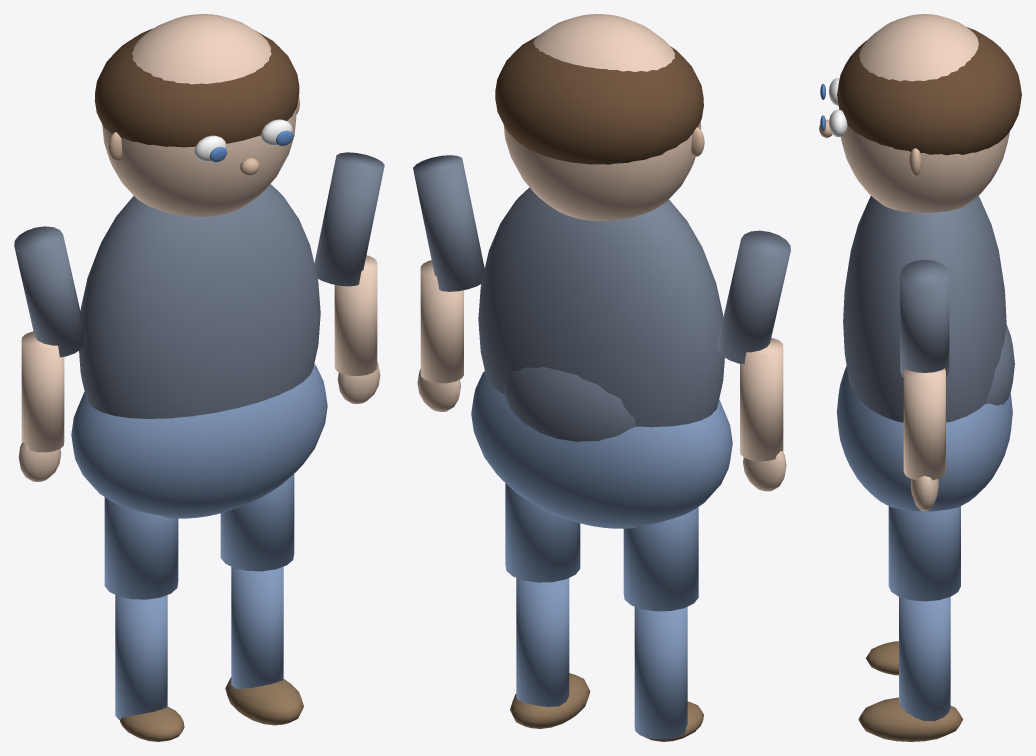
The model's file is noma_character.glb.
3 views of the same model, side by side, from view 1: azimuth 30°, elevation 25°; view 2: azimuth 150°, elevation 25°; view 3: azimuth 270°, elevation 25° (orthographic). The views are drawn at different scales.
Visible parts, largest first — view 1: NomaCharacter; view 2: NomaCharacter; view 3: NomaCharacter.
Boxes of the visible parts, x1,y1,x2,y2 form: NomaCharacter: [14, 14, 384, 741]; NomaCharacter: [413, 14, 790, 741]; NomaCharacter: [819, 14, 1021, 741].
Size of the model in its own units: 1.76 by 3.25 by 0.869.
